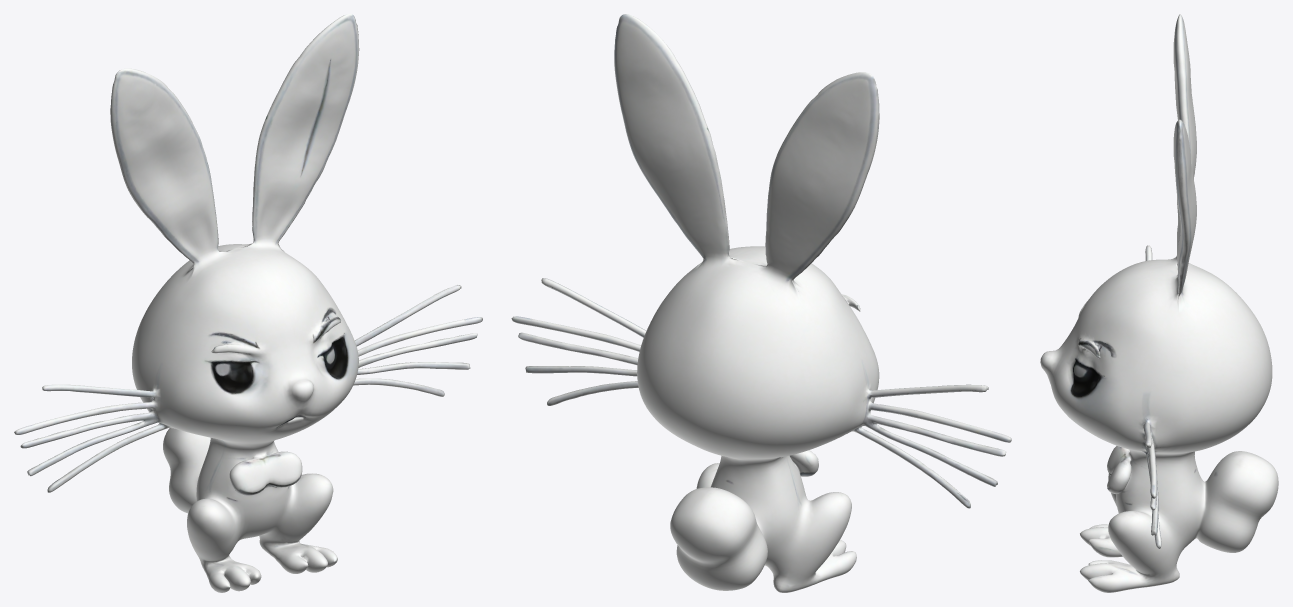
Rendered from bunny.glb.
3 views of the same model, side by side, from view 1: azimuth 30°, elevation 25°; view 2: azimuth 150°, elevation 25°; view 3: azimuth 270°, elevation 25° (orthographic). The views are drawn at different scales.
Visible parts, largest first — view 1: Object_4; view 2: Object_4; view 3: Object_4.
Part boxes in pixels (x1,y1,x2,y2): Object_4: (14,14,482,592); Object_4: (511,14,1011,592); Object_4: (1040,14,1278,592).
Size of the model in its own units: 1.92 by 2 by 0.8657.
1 material, 1 textured.
